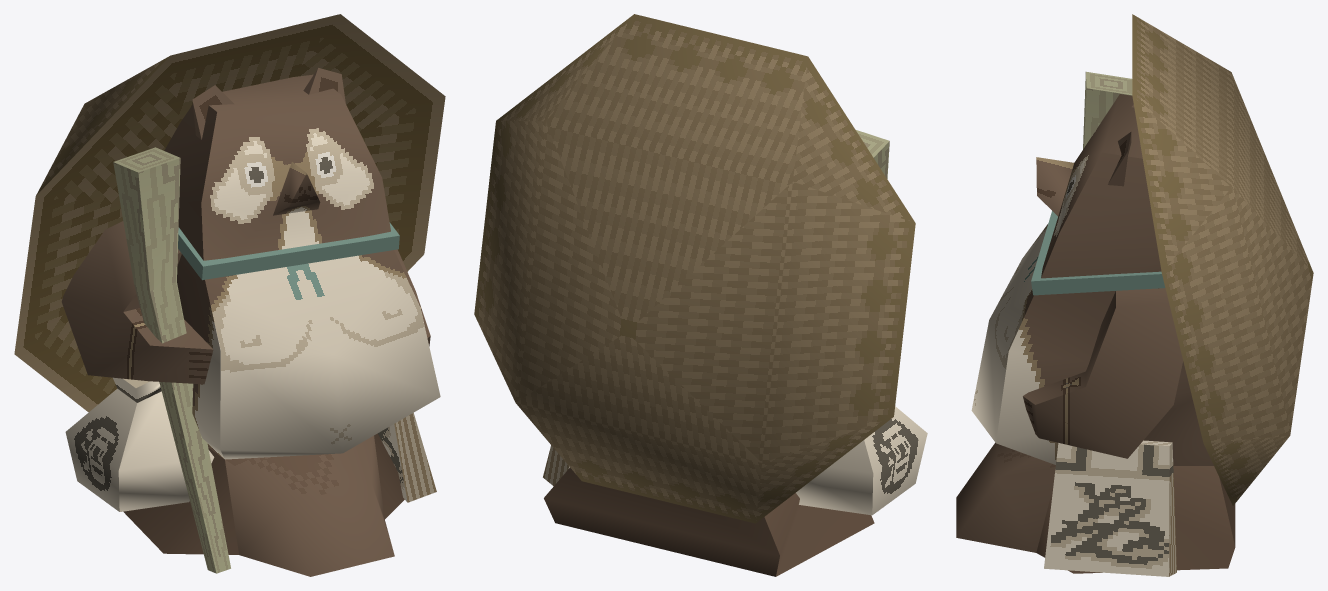
Rendered from 0804_Raccoon.glb.
The picture shows the model from 3 angles, left to right: view 1: azimuth 30°, elevation 25°; view 2: azimuth 150°, elevation 25°; view 3: azimuth 270°, elevation 25°; orthographic projection. The views are drawn at different scales.
Visible parts, largest first — view 1: part_0; view 2: part_0; view 3: part_0.
Boxes of the visible parts, left/top/right/bottom form: part_0: left=14, top=14, right=445, bottom=576; part_0: left=474, top=14, right=927, bottom=576; part_0: left=956, top=14, right=1313, bottom=576.
Bounding box in the file's own units: 1.08 × 1.2 × 0.8298.
Materials: 1 (1 with a texture image).
